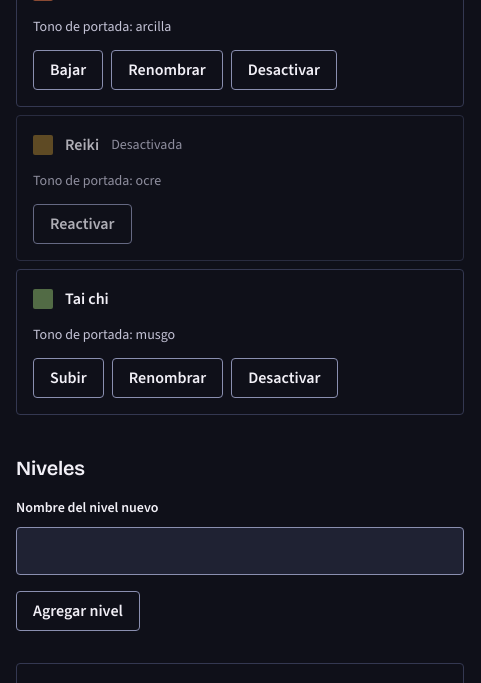
Scenario: renombrar › Enter en el campo guarda esa fila: no envía otro botón de la lista
This screenshot has width=481, height=683.
(page scrolled)
Click the button named "Renombrar «Tai chi»". click: (168, 378)
box: left=112, top=358, right=223, bottom=398
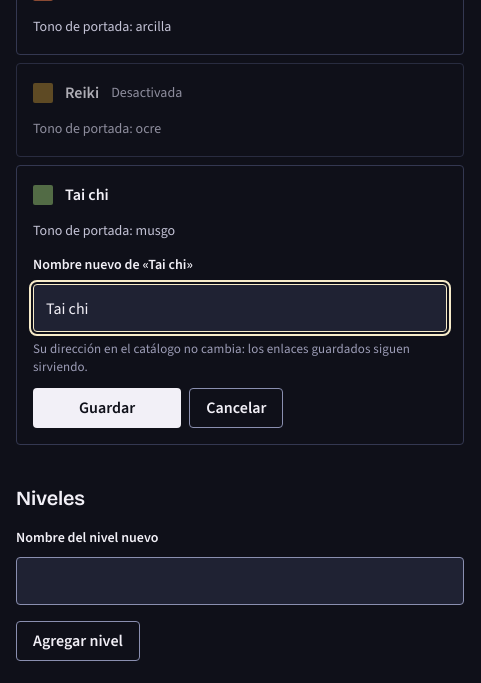
Replace the text in the field labelled "Nombre nuevo de «Tai chi»" with "Tai chi chuan". click: (240, 308)
box: left=33, top=284, right=447, bottom=332
Then press Enter
(page scrolled)
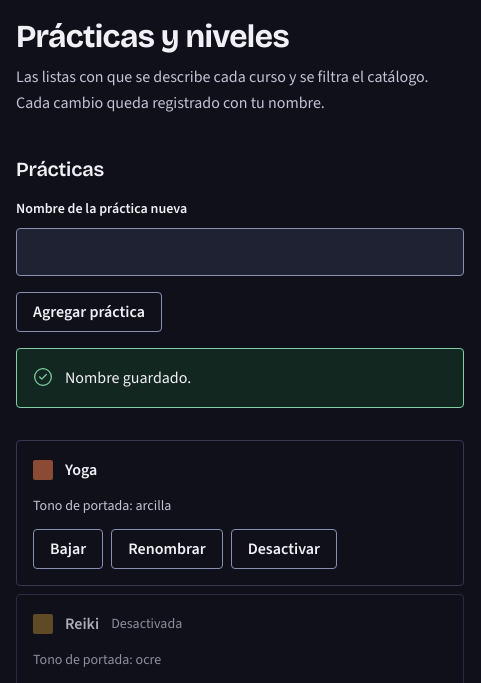
Now the text "Nombre guardado." is shown, box left=65, top=365, right=191, bottom=391
